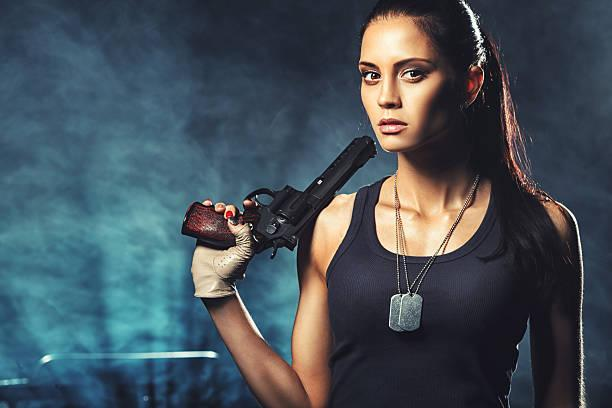weapon: (178, 131, 375, 258)
